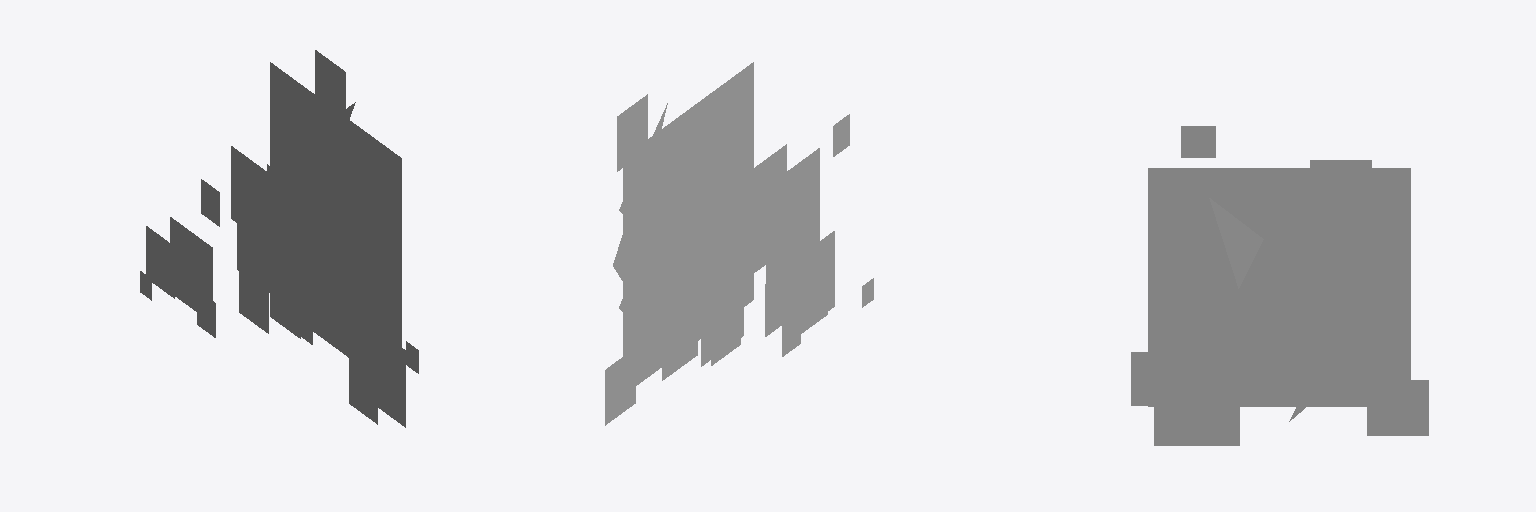
File: gloo2.obj
3 renders of one model, left to right at view 1: azimuth 30°, elevation 25°; view 2: azimuth 150°, elevation 25°; view 3: azimuth 270°, elevation 25°, orthographic.
Visible parts, largest first — view 1: Object.4, Object.11, Object.15, Object.17, Object.13, Object.19, Object.10, Object.9, Object.3, Object.12, Object.5, Object.14 (+2 smaller); view 2: Object.4, Object.15, Object.11, Object.14, Object.10, Object.9, Object.17, Object.12, Object.19, Object.3, Object.13, Object.7 (+2 smaller); view 3: Object.4, Object.1, Object.5, Object.3, Object.7, Object.22, Object.2, Object.18, Object.13, Object.6.
Boxes of the visible parts, x1=… form: Object.4: x1=270, y1=62, x2=401, y2=395; Object.11: x1=301, y1=191, x2=358, y2=337; Object.15: x1=237, y1=172, x2=290, y2=308; Object.17: x1=170, y1=217, x2=212, y2=323; Object.13: x1=349, y1=350, x2=377, y2=424; Object.19: x1=146, y1=226, x2=174, y2=298; Object.10: x1=278, y1=266, x2=312, y2=344; Object.9: x1=267, y1=164, x2=309, y2=265; Object.3: x1=315, y1=50, x2=345, y2=112; Object.12: x1=239, y1=271, x2=268, y2=333; Object.5: x1=378, y1=348, x2=405, y2=427; Object.14: x1=231, y1=146, x2=270, y2=222; Object.4: x1=623, y1=62, x2=753, y2=395; Object.15: x1=766, y1=148, x2=819, y2=283; Object.11: x1=729, y1=144, x2=786, y2=290; Object.14: x1=690, y1=191, x2=730, y2=293; Object.10: x1=662, y1=292, x2=697, y2=380; Object.9: x1=669, y1=198, x2=710, y2=305; Object.17: x1=793, y1=231, x2=834, y2=336; Object.12: x1=711, y1=290, x2=740, y2=365; Object.19: x1=799, y1=262, x2=827, y2=335; Object.3: x1=617, y1=94, x2=647, y2=171; Object.13: x1=765, y1=265, x2=792, y2=336; Object.7: x1=605, y1=357, x2=635, y2=425; Object.4: x1=1148, y1=168, x2=1410, y2=406; Object.1: x1=1280, y1=175, x2=1390, y2=421; Object.5: x1=1154, y1=369, x2=1239, y2=445; Object.3: x1=1310, y1=160, x2=1371, y2=215; Object.7: x1=1367, y1=380, x2=1428, y2=435; Object.22: x1=1209, y1=198, x2=1263, y2=288; Object.2: x1=1209, y1=323, x2=1263, y2=412; Object.18: x1=1181, y1=126, x2=1215, y2=157; Object.13: x1=1131, y1=352, x2=1147, y2=405; Object.6: x1=1139, y1=367, x2=1165, y2=390.
Size of the model in its own units: 46.8 by 62.86 by 57.6.